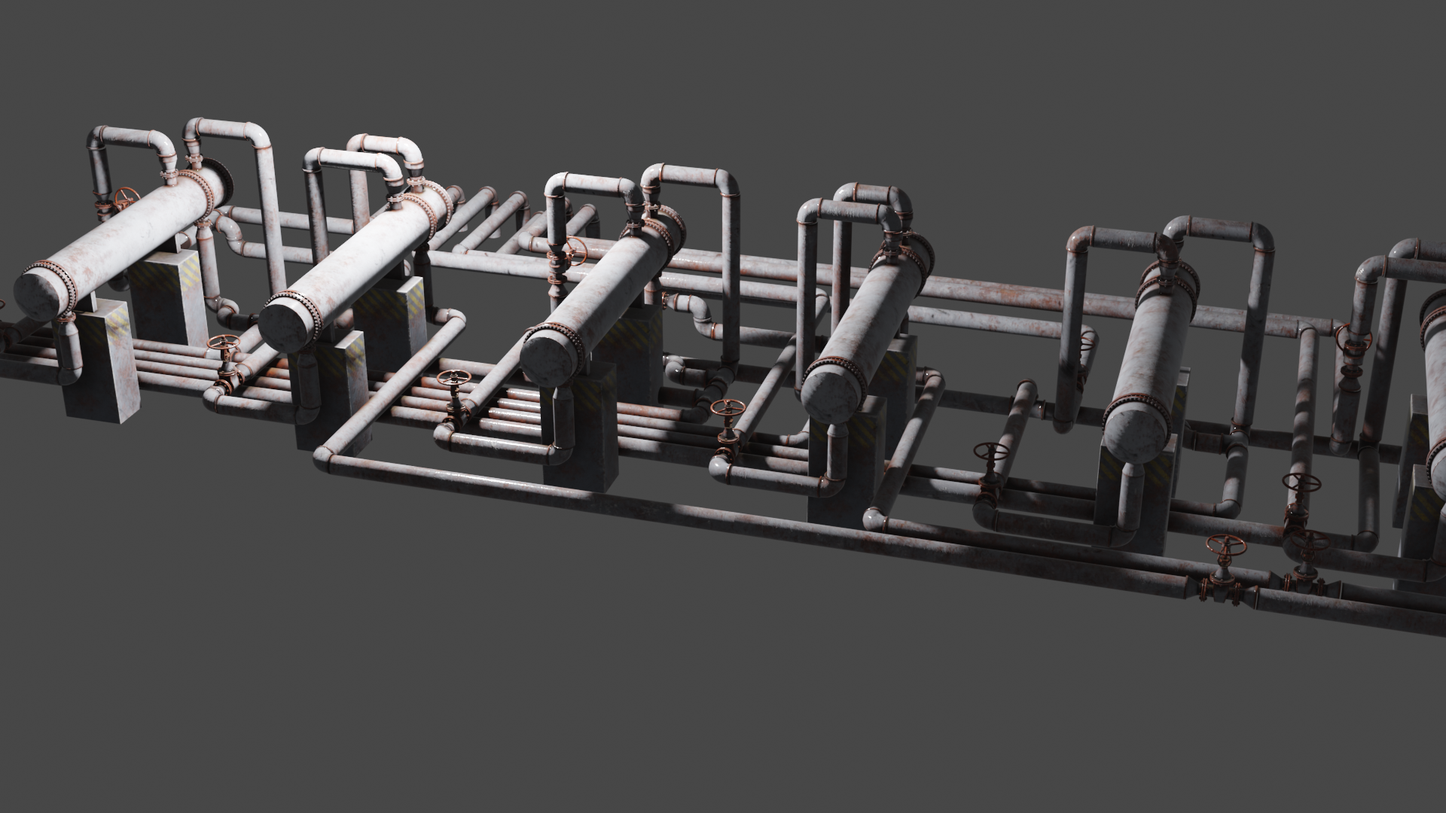HE_1: (1419, 288, 1446, 500)
HE_2: (1100, 256, 1203, 467)
HE_3: (796, 231, 937, 432)
HE_4: (515, 200, 690, 385)
HE_5: (259, 176, 455, 350)
HE_6: (12, 153, 235, 322)
